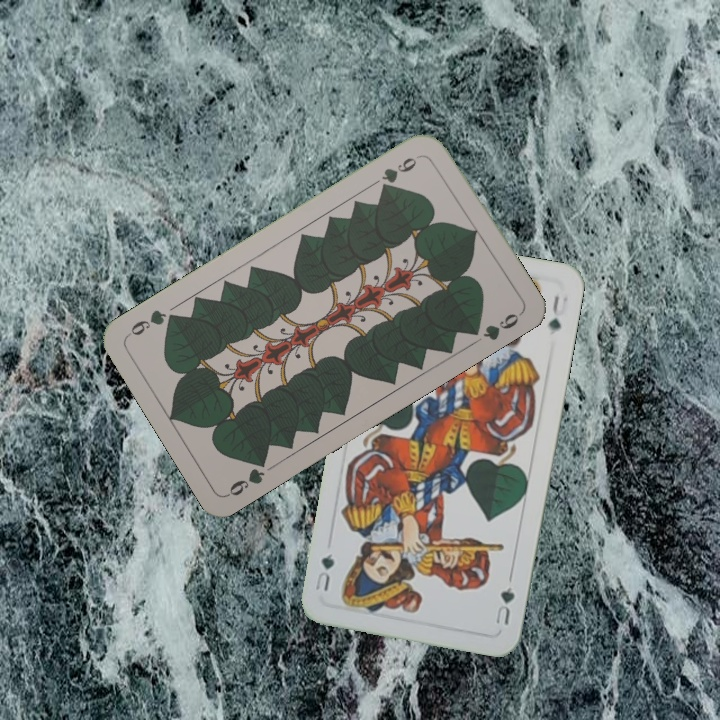G9: (223, 452, 270, 499), (376, 150, 425, 194)
GU: (491, 583, 517, 627)
